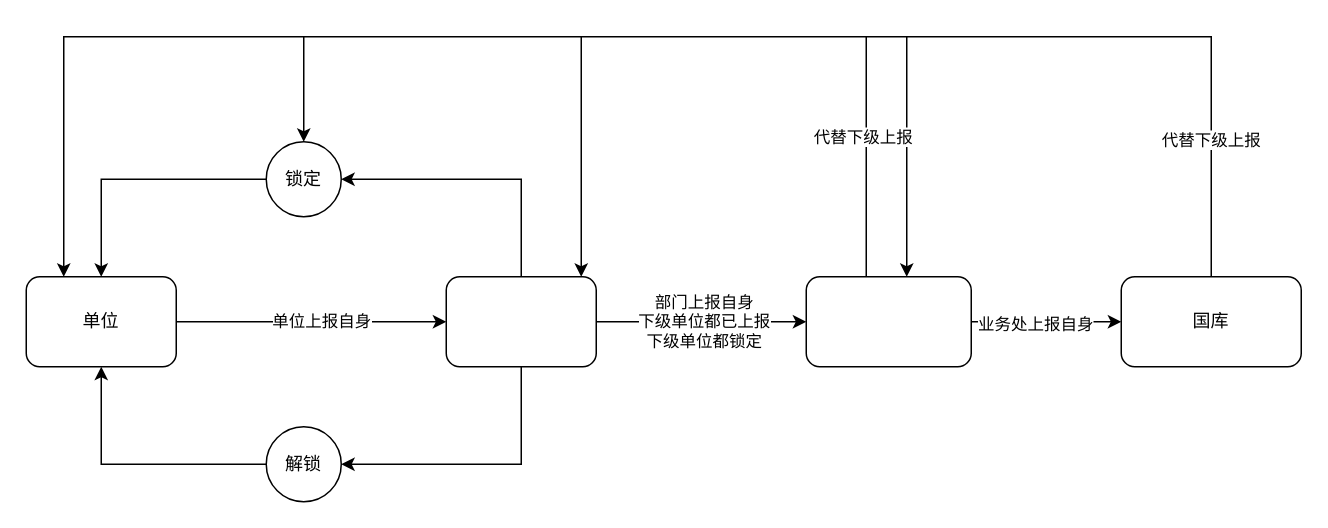
Image size: 1328x528. Some labels were removed from this diagram. The centre of each missing label's shape, as x and y in pixels:
业务处: (888,321)
部门: (520,321)
